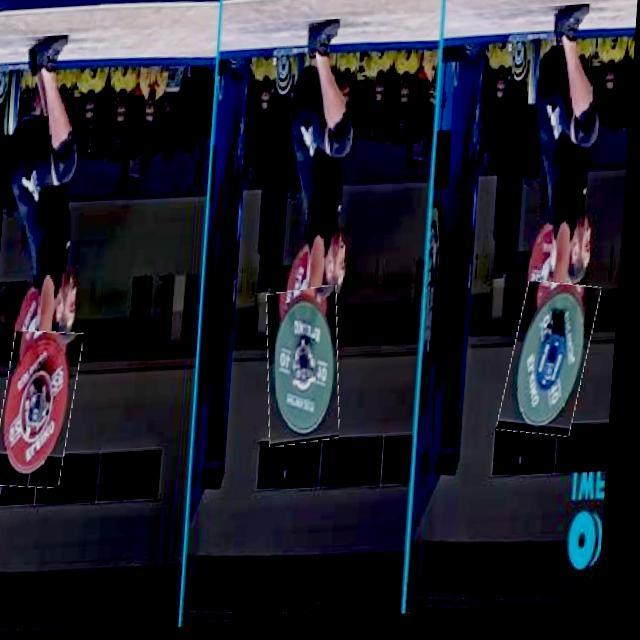barbell: (509, 288, 602, 445), (2, 330, 86, 491), (267, 291, 351, 451)
